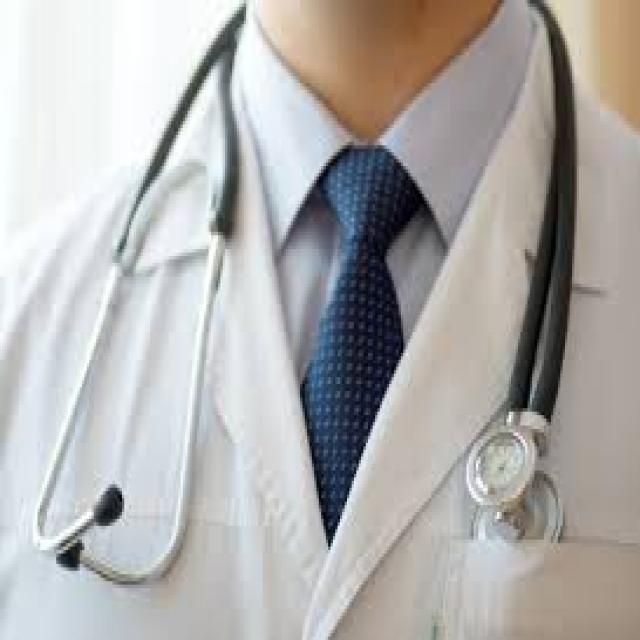stethoscope: (27, 90, 597, 595)
